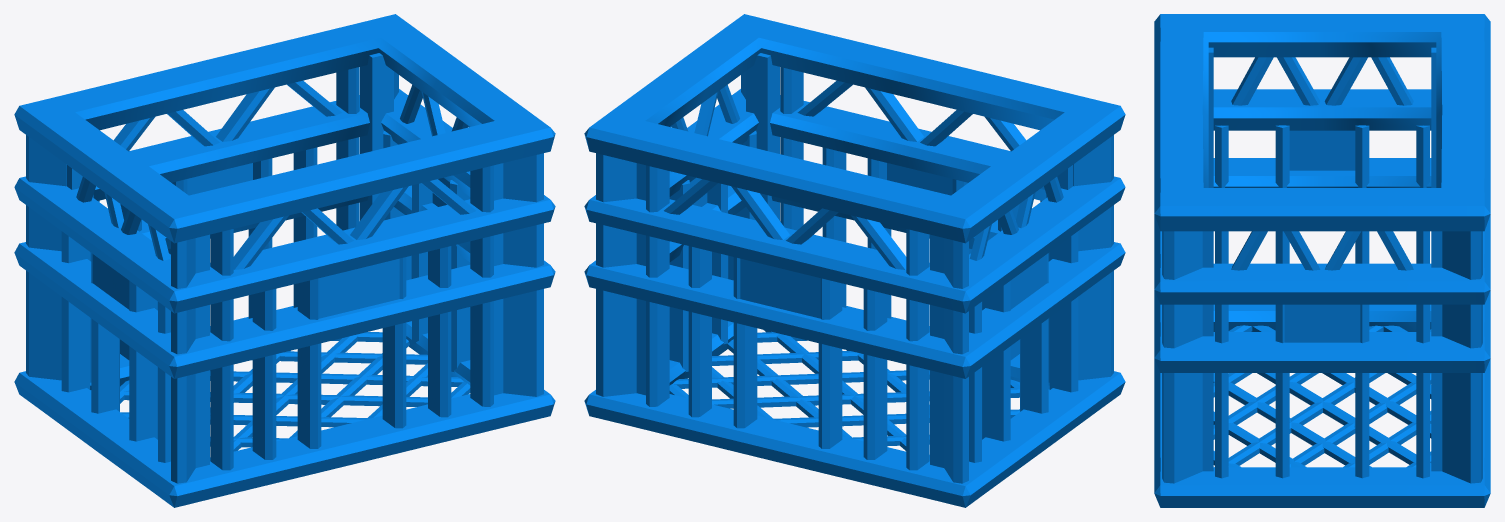
Rendered from Crate_02.fbx.
The picture shows the model from 3 angles, left to right: view 1: azimuth 30°, elevation 25°; view 2: azimuth 150°, elevation 25°; view 3: azimuth 270°, elevation 25°; orthographic projection. The views are drawn at different scales.
Visible parts, largest first — view 1: Crate_02; view 2: Crate_02; view 3: Crate_02.
Part boxes in pixels (x1,y1,x2,y2): Crate_02: [14, 14, 555, 507]; Crate_02: [584, 14, 1125, 507]; Crate_02: [1154, 14, 1490, 507].
Bounding box in the file's own units: 0.5602 × 0.4 × 0.4041.
